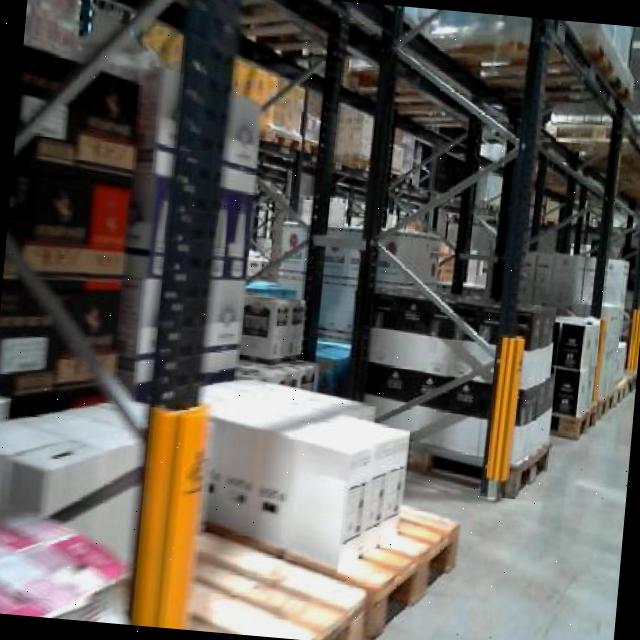pallet: (181, 526, 368, 640), (335, 493, 471, 640), (392, 424, 558, 506), (544, 397, 599, 446)
